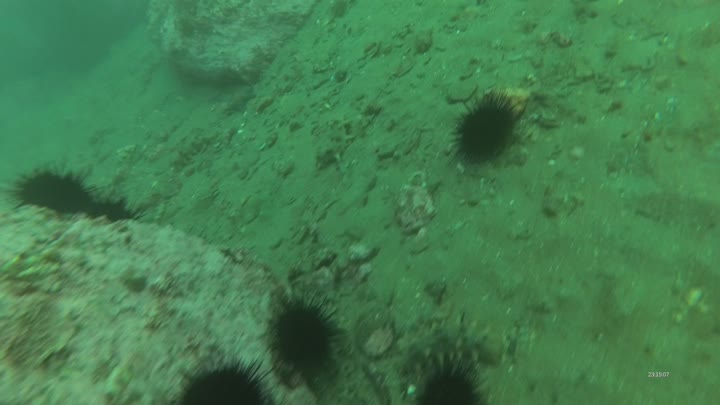echinus: (264, 284, 343, 391), (451, 87, 527, 169), (2, 161, 94, 218), (175, 357, 281, 405), (416, 354, 486, 405), (81, 200, 150, 226)
holothurian: (315, 120, 357, 173)
